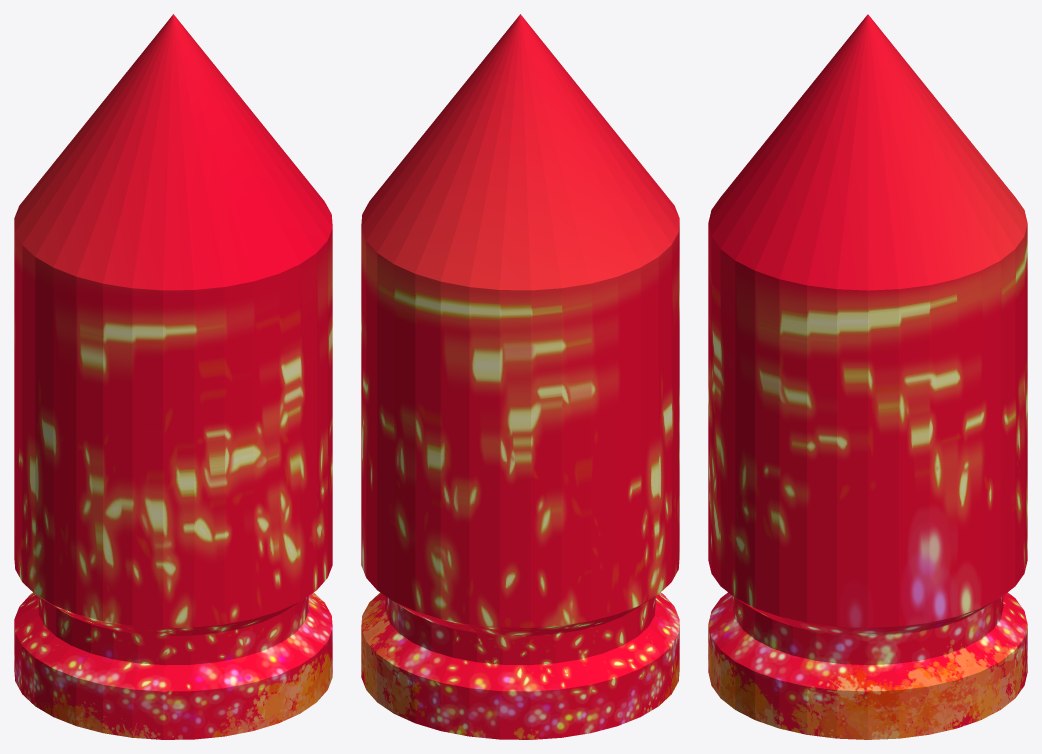
The model's file is bullet5.obj.
3 views of the same model, side by side, from view 1: azimuth 30°, elevation 25°; view 2: azimuth 150°, elevation 25°; view 3: azimuth 270°, elevation 25° (orthographic).
Parts seen in each view (by area): view 1: 円錐; view 2: 円錐; view 3: 円錐.
Boxes of the visible parts, x1,y1,x2,y2 form: 円錐: [14, 14, 332, 739]; 円錐: [361, 14, 679, 739]; 円錐: [708, 14, 1027, 739].
Size of the model in its own units: 1 by 2.28 by 1.
Materials: 1 (1 with a texture image).
